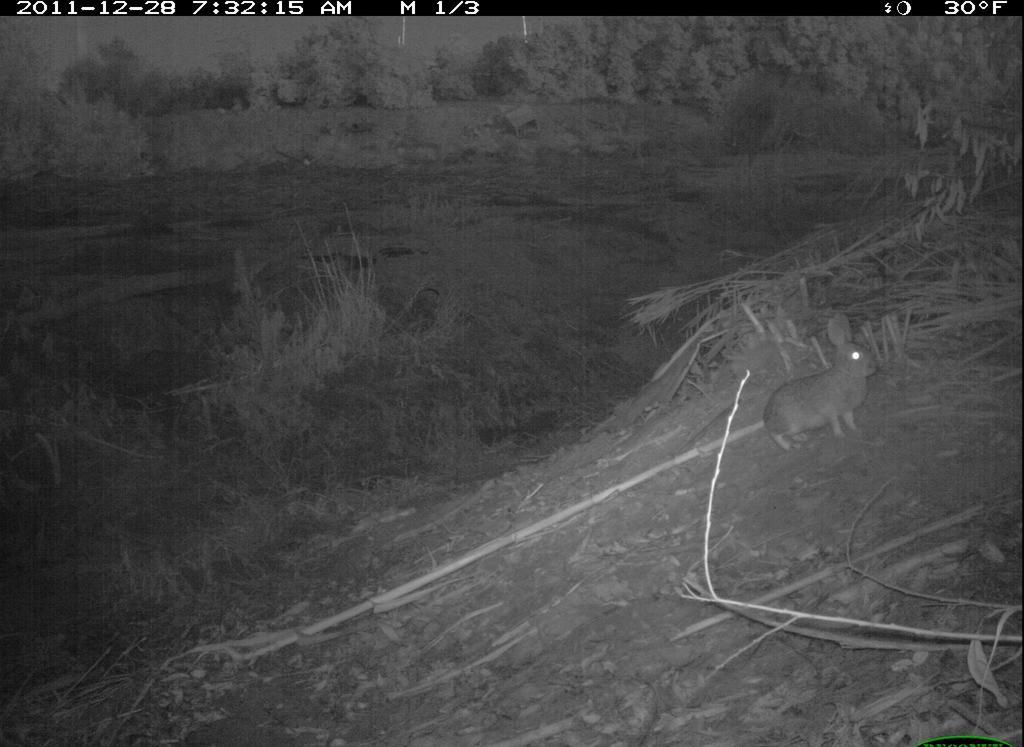rabbit: (758, 306, 884, 459)
